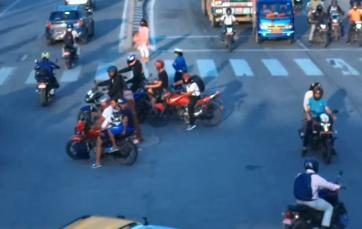bike: (67, 114, 143, 168), (148, 84, 229, 128), (299, 106, 342, 164)
